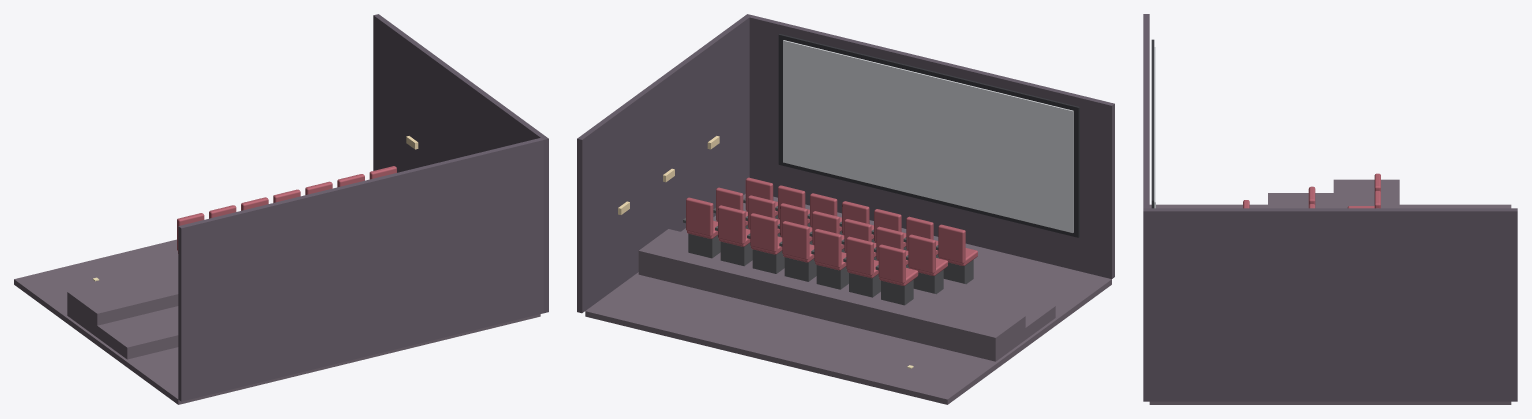
File: salida.mall.fbx
3 views of the same model, side by side, from view 1: azimuth 30°, elevation 25°; view 2: azimuth 150°, elevation 25°; view 3: azimuth 270°, elevation 25° (orthographic). The views are drawn at different scales.
Visible parts, largest first — view 1: Muro del fondo, Muro lateral, Piso, Grada.001, Grada; view 2: Pantalla, Muro lateral, Piso, Muro del fondo, Grada.001, Marco de la pantalla, Grada, Respaldo.006, Respaldo.014, Respaldo.019, Respaldo.015, Respaldo.018 (+25 smaller); view 3: Muro lateral, Piso, Grada.001, Muro del fondo, Grada, Marco de la pantalla.
Part boxes in pixels (bbox=[...]): Muro del fondo: bbox=[178, 138, 543, 401]; Muro lateral: bbox=[373, 14, 548, 313]; Piso: bbox=[14, 239, 540, 404]; Grada.001: bbox=[67, 265, 178, 337]; Grada: bbox=[97, 306, 178, 359]; Pantalla: bbox=[783, 40, 1073, 232]; Muro lateral: bbox=[577, 14, 752, 313]; Piso: bbox=[585, 194, 1111, 404]; Muro del fondo: bbox=[749, 15, 1114, 278]; Grada.001: bbox=[638, 229, 1025, 361]; Marco de la pantalla: bbox=[778, 34, 1079, 237]; Grada: bbox=[681, 228, 1055, 339]; Respaldo.006: bbox=[938, 224, 965, 263]; Respaldo.014: bbox=[686, 197, 713, 236]; Respaldo.019: bbox=[846, 236, 873, 275]; Respaldo.015: bbox=[718, 205, 745, 244]; Respaldo.018: bbox=[814, 229, 841, 267]; Muro lateral: bbox=[1143, 208, 1517, 401]; Piso: bbox=[1149, 204, 1511, 404]; Grada.001: bbox=[1333, 179, 1399, 208]; Muro del fondo: bbox=[1143, 14, 1149, 208]; Grada: bbox=[1268, 193, 1333, 208]; Marco de la pantalla: bbox=[1151, 39, 1154, 208].
Size of the model in its own units: 7.1 by 3.3 by 5.7.
